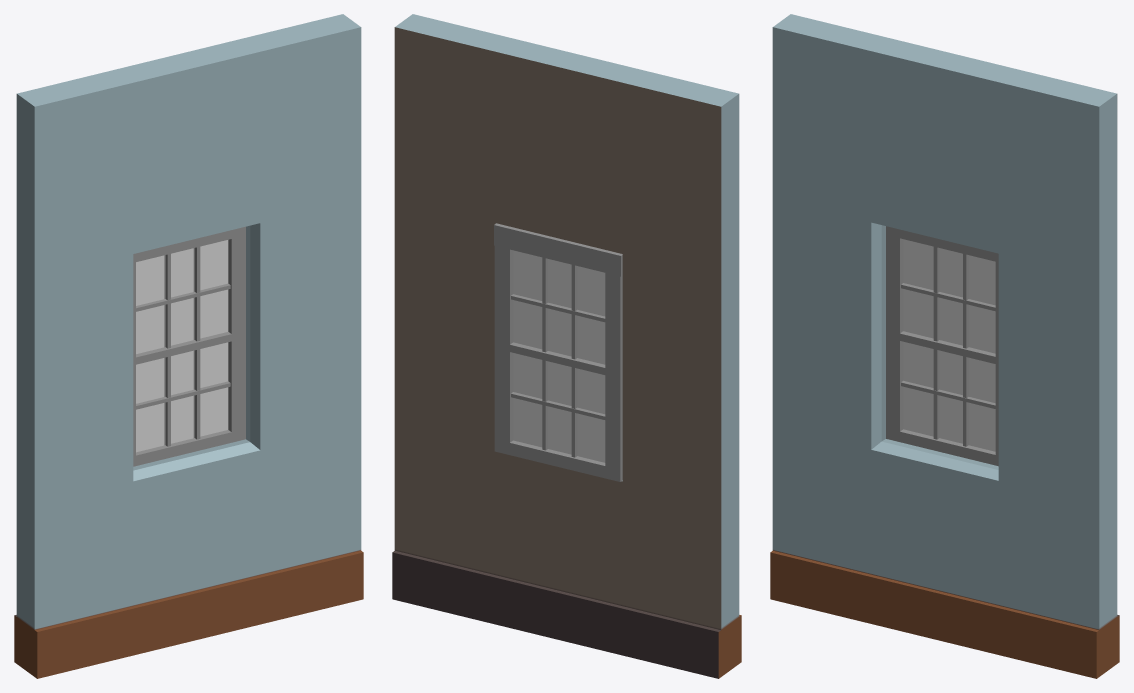
Rendered from window_wall.fbx.
3 renders of one model, left to right at view 1: azimuth 30°, elevation 25°; view 2: azimuth 150°, elevation 25°; view 3: azimuth 330°, elevation 25°, orthographic.
Parts seen in each view (by area): view 1: walltile_window, windowglass, window_frame; view 2: walltile_window, window_frame, windowglass; view 3: walltile_window, windowglass, window_frame.
Part boxes in pixels (x1,y1,x2,y2): walltile_window: (14, 14, 363, 678); windowglass: (136, 240, 228, 452); window_frame: (133, 226, 245, 466); walltile_window: (392, 14, 741, 678); window_frame: (494, 223, 622, 481); windowglass: (513, 250, 605, 462); walltile_window: (770, 14, 1119, 678); windowglass: (903, 239, 995, 451); window_frame: (886, 226, 998, 466).
Bounding box in the file's own units: 8.76 × 14.62 × 1.07.
